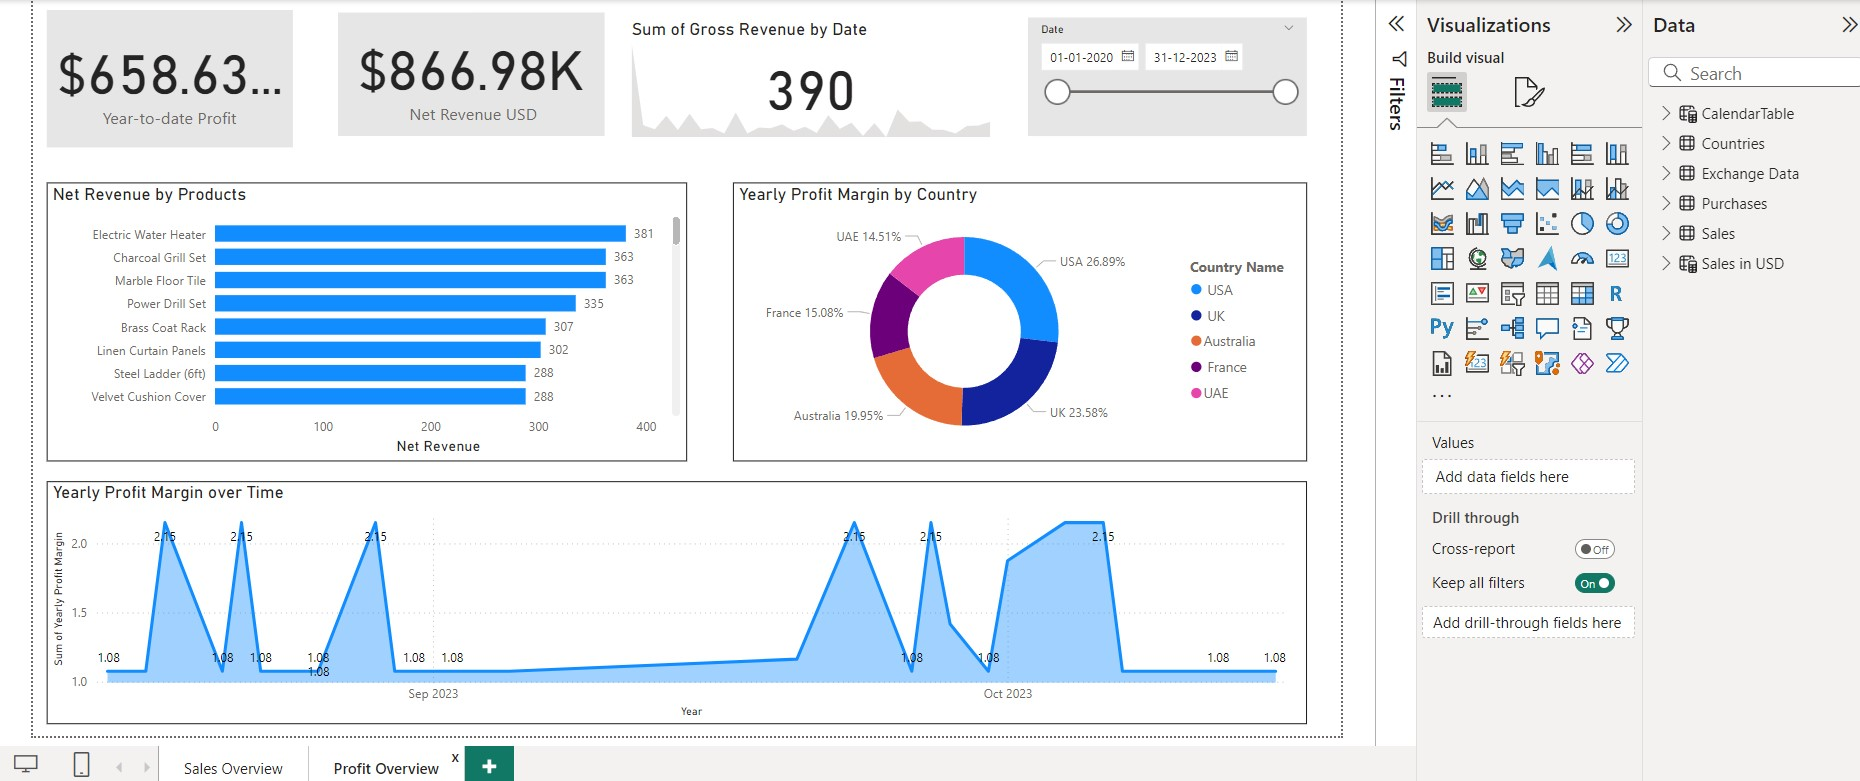

The page's visual inventory and layout, read from the dashboard file:
{"tool":"powerbi","page":{"name":"Profit Overview","canvas":[1280,720],"ordinal":1},"visuals":[{"type":"clusteredBarChart","title":" Net Revenue by Products","fields":{"Category":["Sales in USD.Product Name"],"Y":["Sum(Sales.Net Revenue)"]},"box":[13.5,178.5,626.1,272.7],"z":0},{"type":"donutChart","title":"Yearly Profit Margin by Country","fields":{"Category":["Sales in USD.Country Name"],"Y":["Sum(Sales in USD.Yearly Profit Margin)"]},"box":[684.8,178.5,561.3,272.7],"z":1000},{"type":"areaChart","title":"Yearly Profit Margin over Time ","fields":{"Y":["Sum(Sales in USD.Yearly Profit Margin)"],"Category":["CalendarTable.Date.Variation.Date Hierarchy.Year","CalendarTable.Date.Variation.Date Hierarchy.Quarter","CalendarTable.Date.Variation.Date Hierarchy.Month","CalendarTable.Date.Variation.Date Hierarchy.Day"]},"box":[13.5,470.8,1232.6,237.2],"z":2000},{"type":"card","fields":{"Values":["Sales in USD.Year-to-date Profit"]},"box":[13.5,9.8,240.9,134.5],"z":3000},{"type":"card","fields":{"Values":["Sum(Sales in USD.Net Revenue USD)"]},"box":[298.4,12.2,260.5,121.1],"z":4000},{"type":"kpi","fields":{"TrendLine":["CalendarTable.Date"],"Indicator":["Sum(Sales.Gross Revenue)"]},"box":[580.8,18.3,360.7,121.1],"z":5000},{"type":"slicer","fields":{"Values":["CalendarTable.Date"]},"box":[973.4,17.1,272.7,116.2],"z":6000}]}

Visuals, with their boxes on the page's 1280x720 design canvas (x1, y1, x2, y2). These are canvas units, not pixel positions in the 1860x781 screenshot, which may show the page scaled, cropped or inside an application window:
" Net Revenue by Products" clusteredBarChart: 14, 178, 640, 451
"Yearly Profit Margin by Country" donutChart: 685, 178, 1246, 451
"Yearly Profit Margin over Time " areaChart: 14, 471, 1246, 708
card - Sales in USD.Year-to-date Profit: 14, 10, 254, 144
card - Sum(Sales in USD.Net Revenue USD): 298, 12, 559, 133
kpi - CalendarTable.Date x Sum(Sales.Gross Revenue): 581, 18, 942, 139
slicer - CalendarTable.Date: 973, 17, 1246, 133
